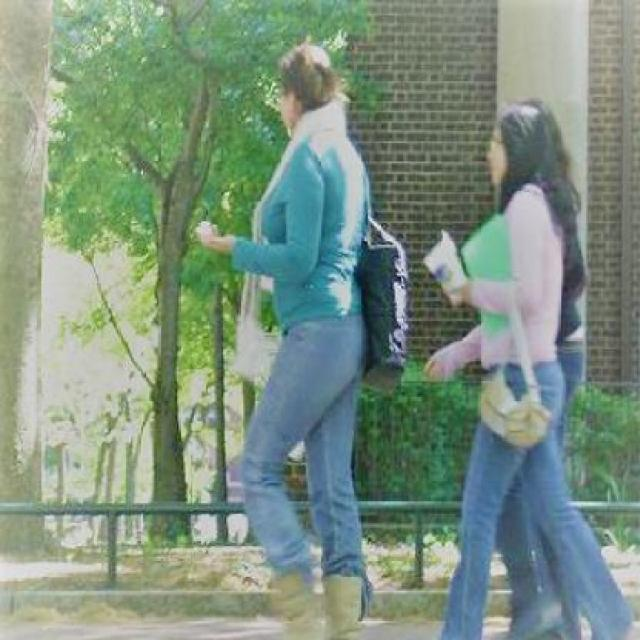Person: (414, 92, 638, 638), (188, 46, 378, 639)
